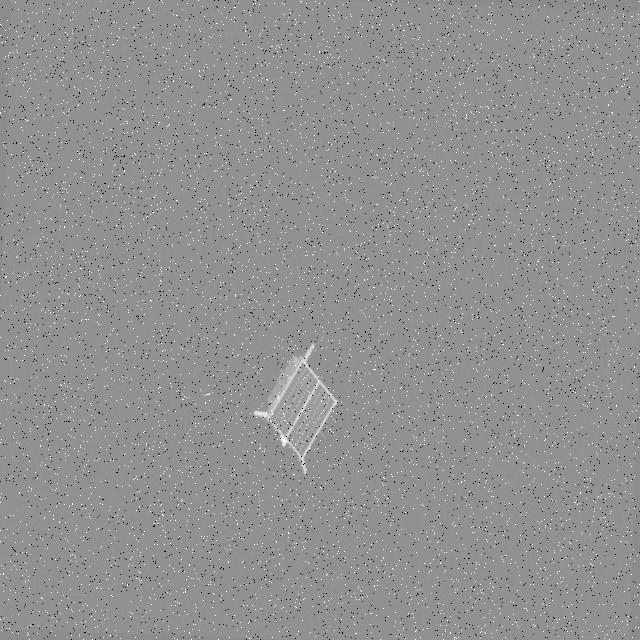satellite: (250, 334, 342, 478)
